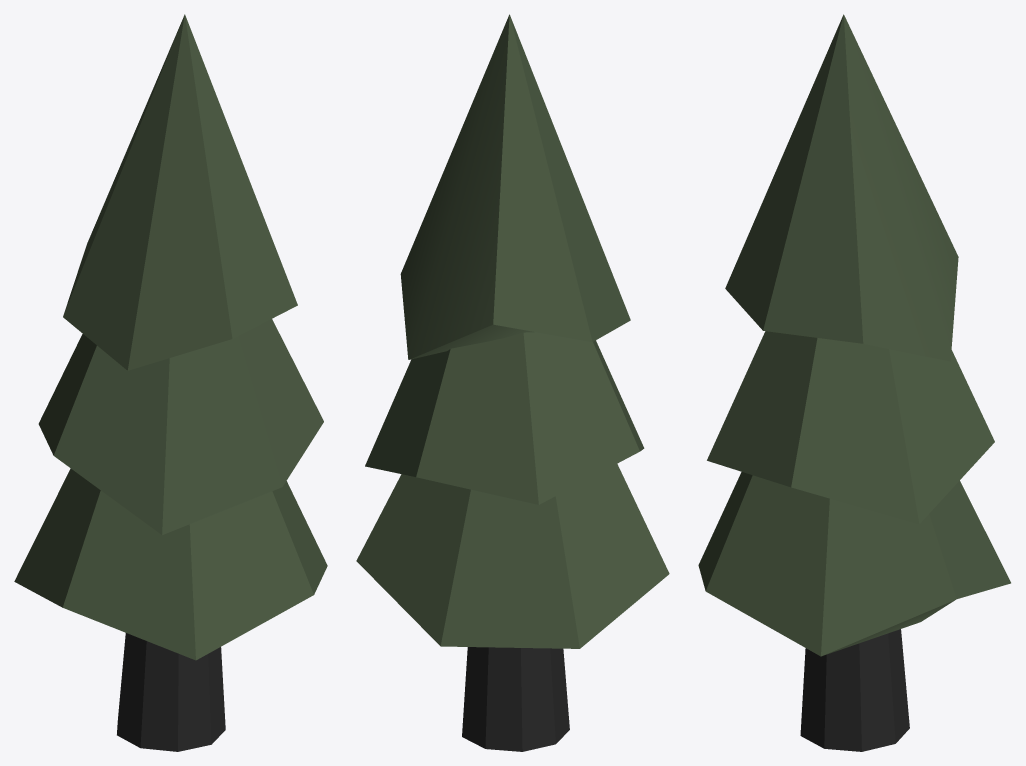
File: pinetree.fbx
The picture shows the model from 3 angles, left to right: view 1: azimuth 30°, elevation 25°; view 2: azimuth 150°, elevation 25°; view 3: azimuth 270°, elevation 25°; orthographic projection.
Visible parts, largest first — view 1: Объект_Куб.001, Объект_Куб.035, Объект_Куб.036, Объект_Куб.039; view 2: Объект_Куб.001, Объект_Куб.036, Объект_Куб.035, Объект_Куб.039; view 3: Объект_Куб.001, Объект_Куб.035, Объект_Куб.036, Объект_Куб.039.
Boxes of the visible parts, x1,y1,x2,y2 form: Объект_Куб.001: (63, 14, 297, 370); Объект_Куб.035: (38, 319, 323, 534); Объект_Куб.036: (14, 468, 327, 660); Объект_Куб.039: (117, 633, 225, 751); Объект_Куб.001: (400, 14, 630, 359); Объект_Куб.036: (356, 464, 669, 648); Объект_Куб.035: (365, 332, 644, 504); Объект_Куб.039: (462, 647, 569, 751); Объект_Куб.001: (725, 14, 958, 361); Объект_Куб.035: (707, 331, 994, 524); Объект_Куб.036: (698, 472, 1010, 656); Объект_Куб.039: (800, 629, 909, 751).
Bounding box in the file's own units: 4.37 × 10.95 × 4.32.
